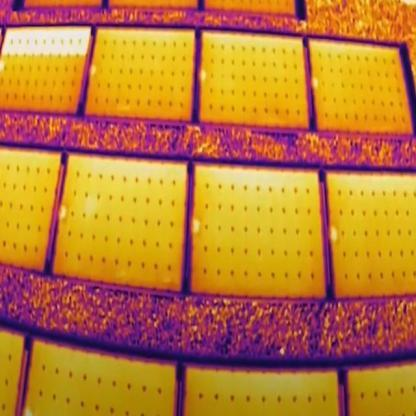anomaly: (1, 27, 92, 55)
